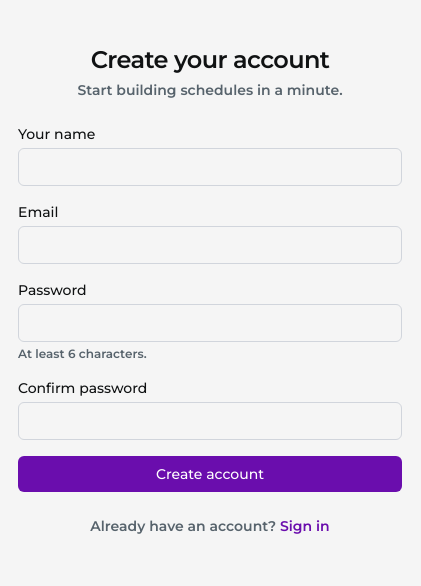
Test: SignupPage › rejects mismatched passwords client-side
In the field labelled "Your name": (210, 167) [18, 148, 402, 186], type "Ada"
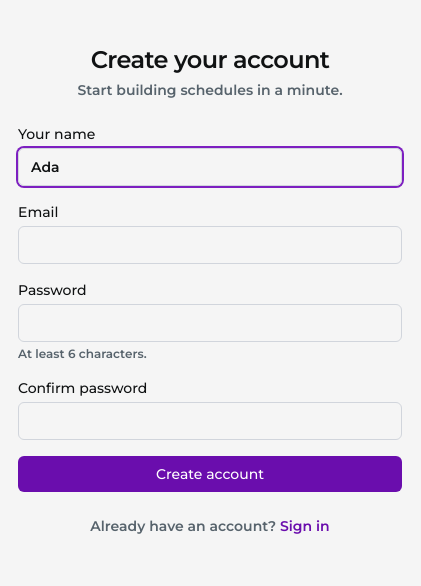
In the field labelled "Email": (210, 245) [18, 226, 402, 264], type "ada@example.com"
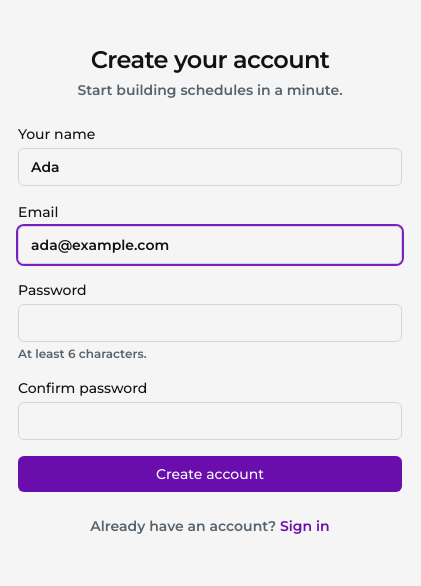
In the password field labelled "Password": (210, 323) [18, 304, 402, 342], type "hunter2"
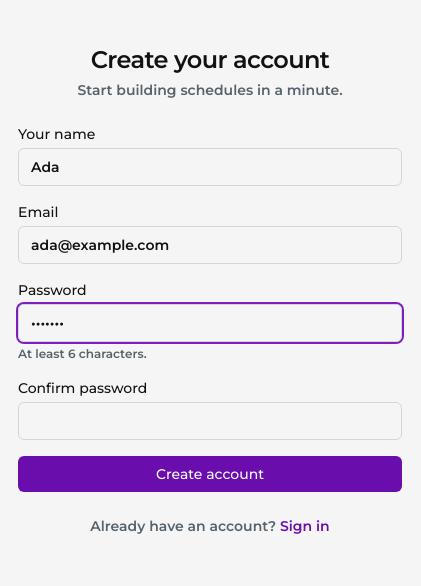
In the password field labelled "Confirm password": (210, 421) [18, 402, 402, 440], type "different"
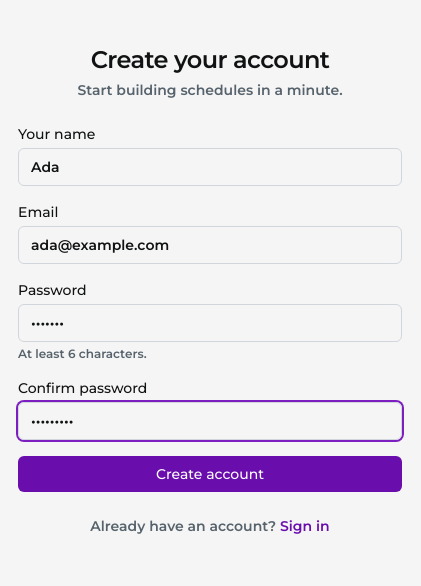
Click the button "Create account": (210, 474) [18, 456, 402, 492]
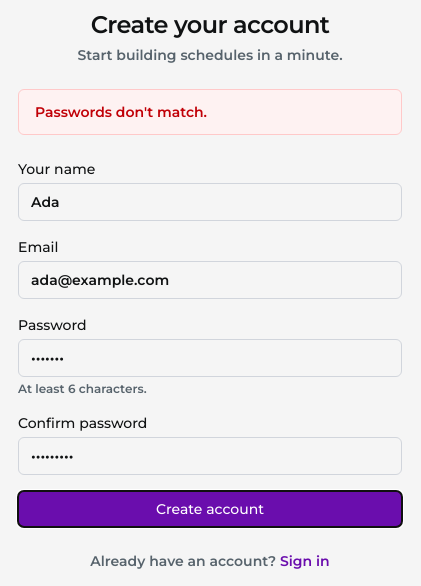
Expected: the text "Passwords don't match." is shown, [18, 89, 402, 135]
